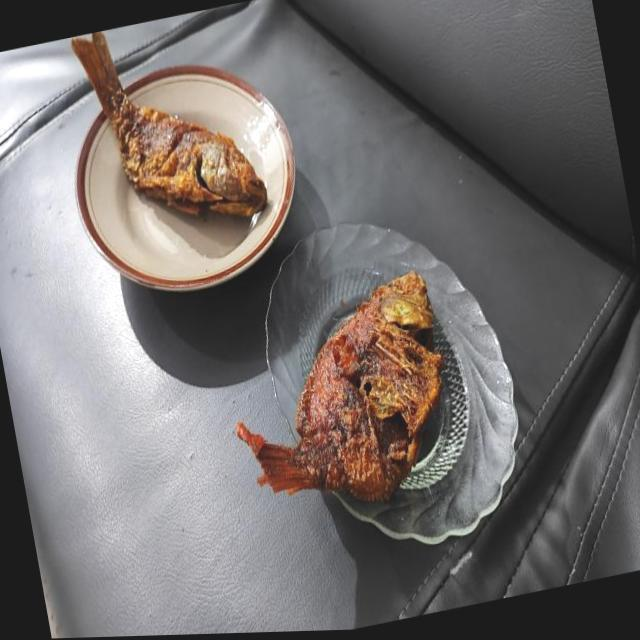ikan_mujair: (236, 270, 444, 500), (71, 31, 266, 216)
